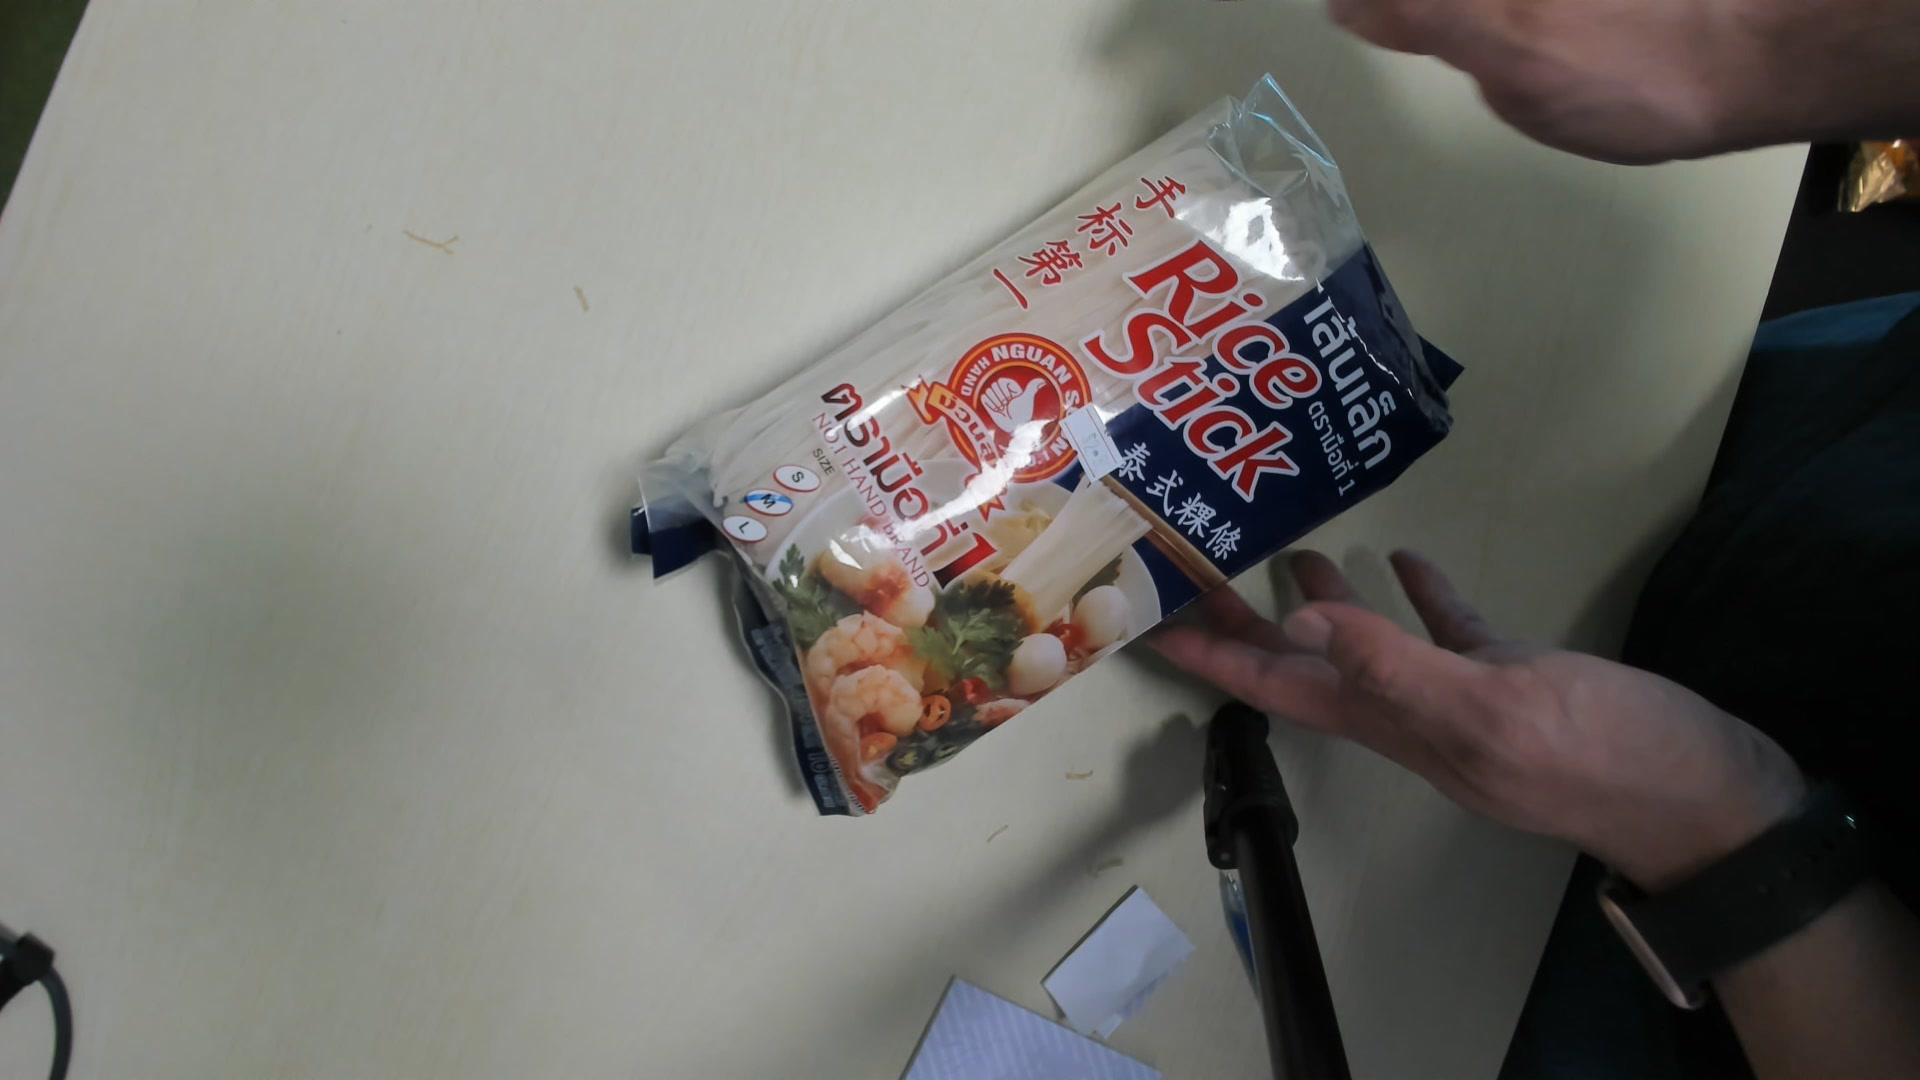OtherNoodles_400-499g_Halal_NonHealthy: (613, 80, 1469, 828)
